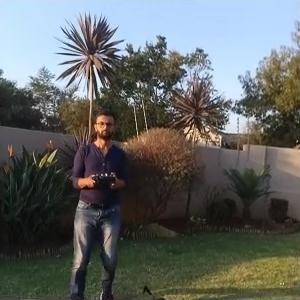follow: (67, 108, 131, 298)
